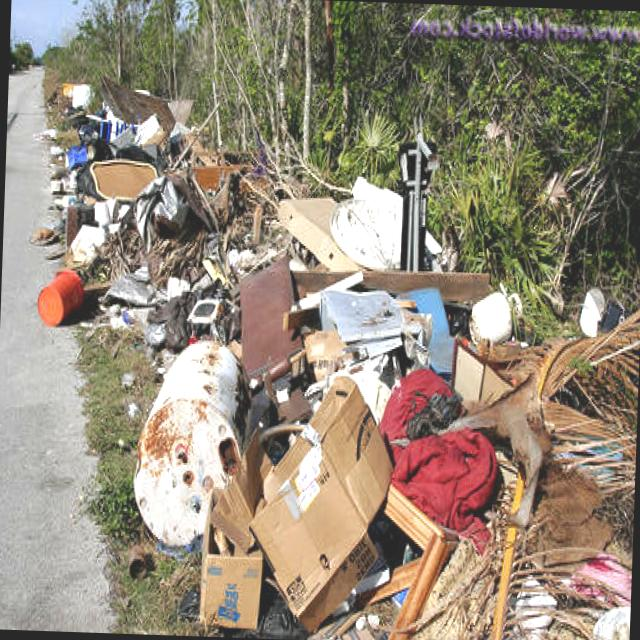garbage: (13, 71, 640, 640)
